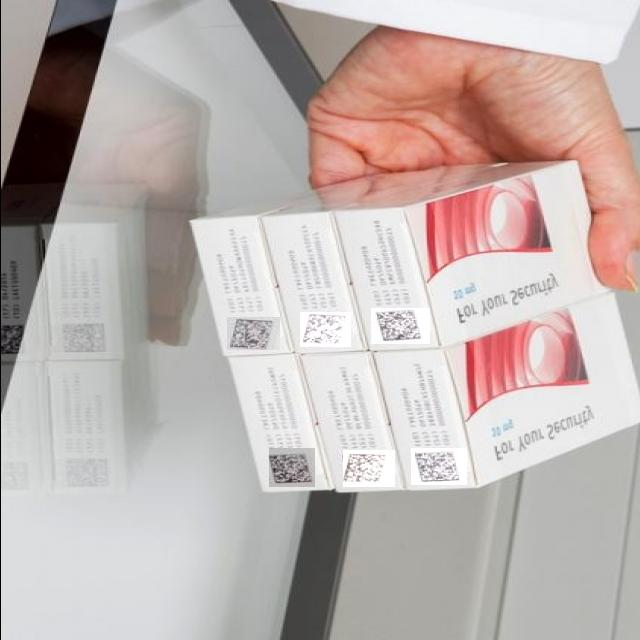DataMatrix: (370, 308, 429, 344), (410, 448, 466, 485), (342, 450, 394, 487), (268, 448, 314, 487), (299, 312, 350, 347), (226, 317, 279, 350)
